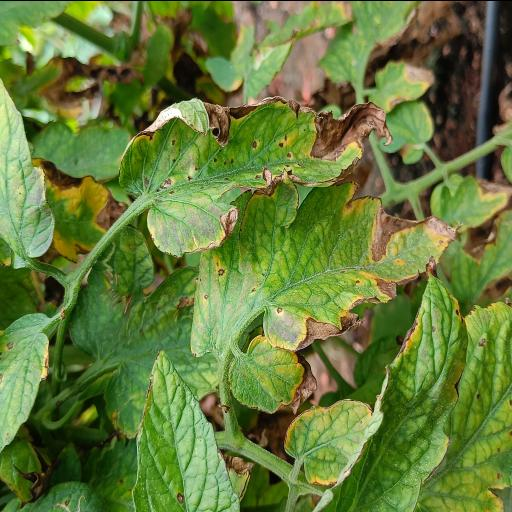disease_tomato: (188, 178, 464, 362), (116, 91, 396, 260)
